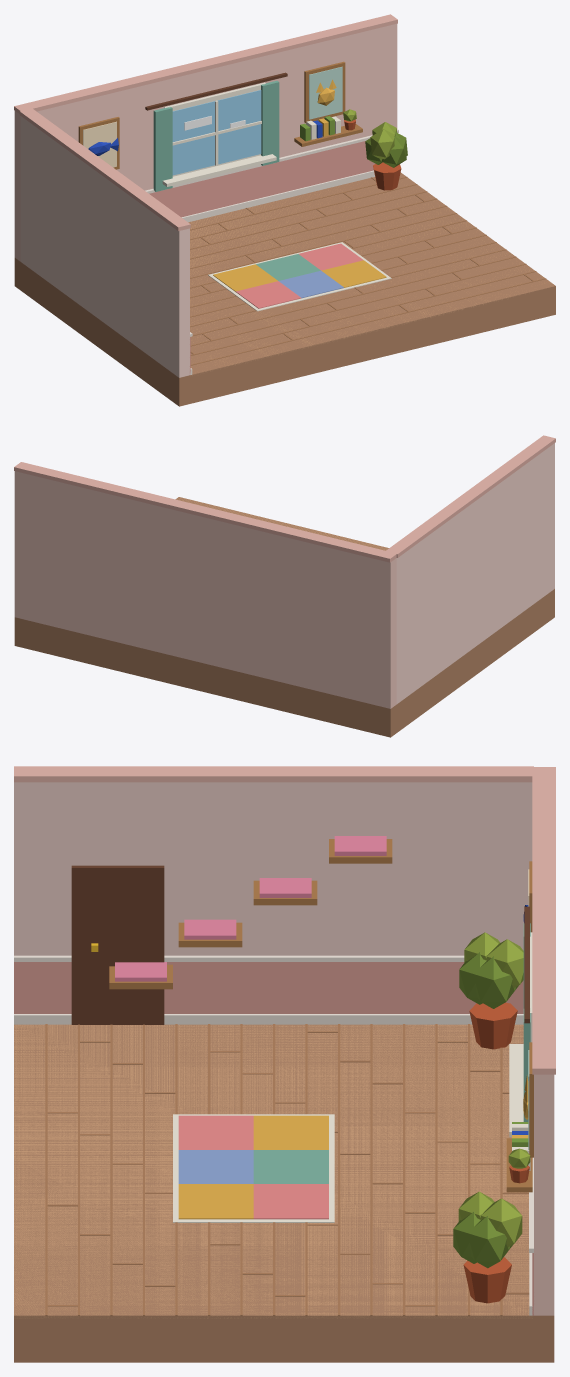
Rendered from cat_room.glb.
The picture shows the model from 3 angles, top to bottom: view 1: azimuth 30°, elevation 25°; view 2: azimuth 150°, elevation 25°; view 3: azimuth 270°, elevation 25°; orthographic projection. The views are drawn at different scales.
Parts seen in each view (by area): view 1: cat_room; view 2: cat_room; view 3: cat_room.
Boxes of the visible parts, x1,y1,x2,y2 form: cat_room: (14, 14, 555, 406); cat_room: (14, 435, 555, 737); cat_room: (14, 766, 555, 1362).
Size of the model in its own units: 12.38 by 5.62 by 9.38.
